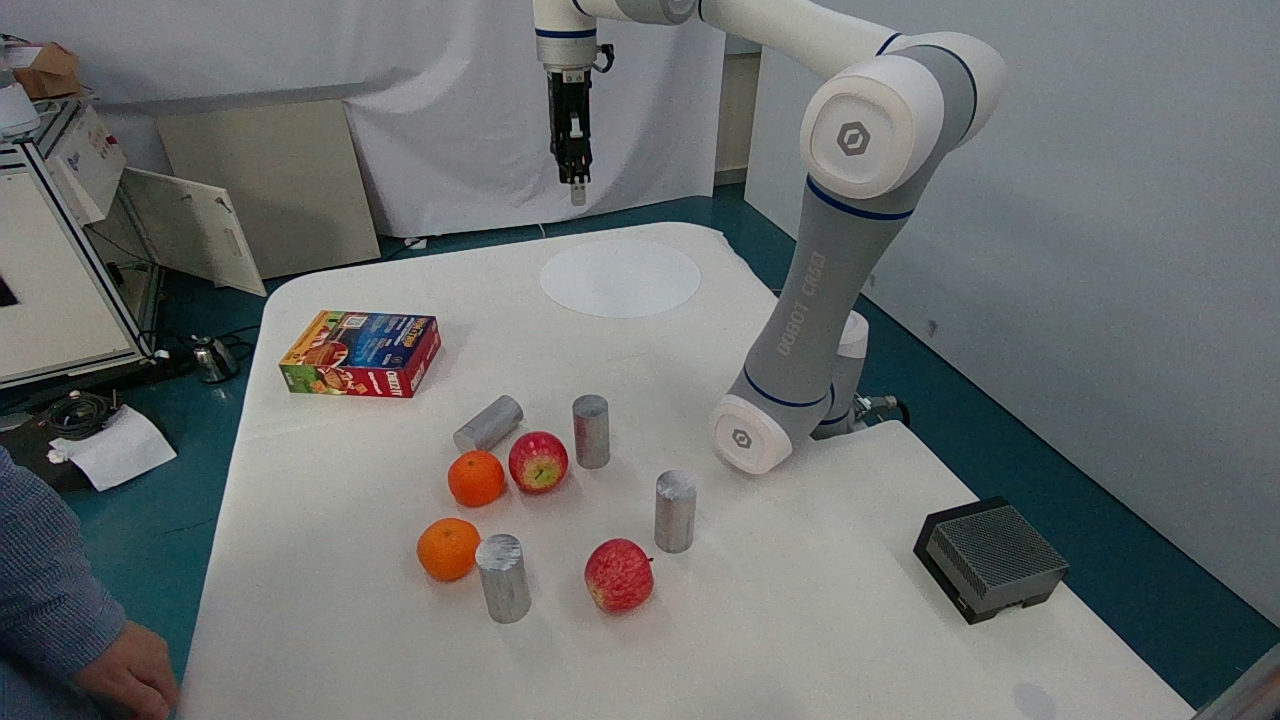apple: (572, 518, 664, 622), (497, 415, 574, 500)
metal rod: (466, 515, 542, 634), (638, 456, 710, 565), (447, 380, 529, 464), (566, 382, 620, 470)
orange: (406, 509, 489, 587), (436, 441, 517, 518)
